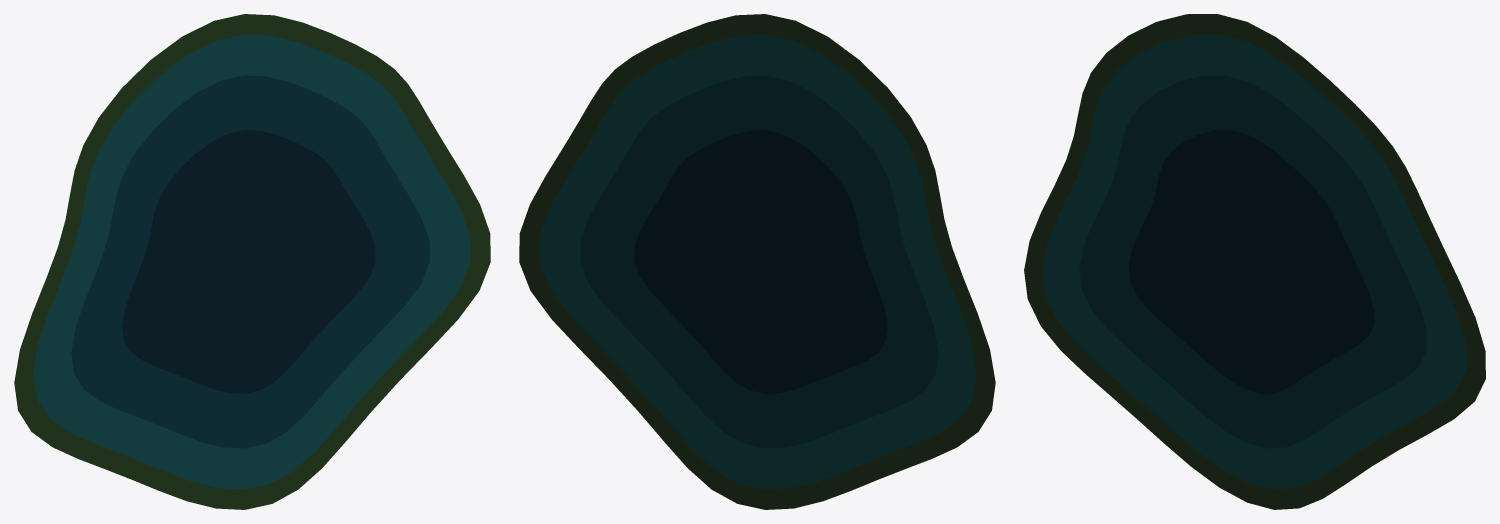
File: SM_ForestLake.obj
The picture shows the model from 3 angles, left to right: view 1: azimuth 30°, elevation 25°; view 2: azimuth 150°, elevation 25°; view 3: azimuth 330°, elevation 25°; orthographic projection. The views are drawn at different scales.
Parts seen in each view (by area): view 1: SM_ForestLake; view 2: SM_ForestLake; view 3: SM_ForestLake.
Boxes of the visible parts, left/top/right/bottom form: SM_ForestLake: left=14, top=14, right=490, bottom=509; SM_ForestLake: left=519, top=14, right=995, bottom=509; SM_ForestLake: left=1024, top=14, right=1485, bottom=509.
Size of the model in its own units: 232 by 231 by 0.
